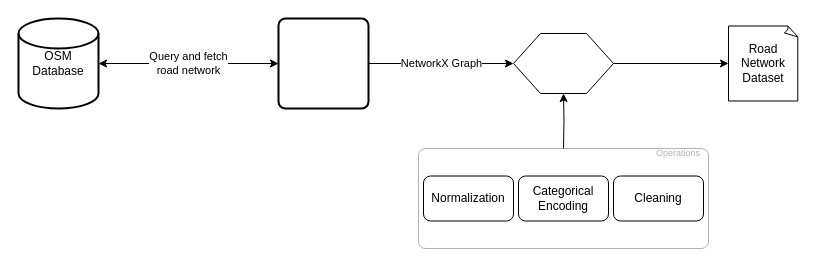
Some shapes in this 816 by 266 pixel diagram are drawn without their labels. Here are the shapes that lost their labels. From the top down, the box of each, then its label:
(277, 17, 369, 109): OSMNX Framework
(512, 32, 614, 94): Preprocess Features
